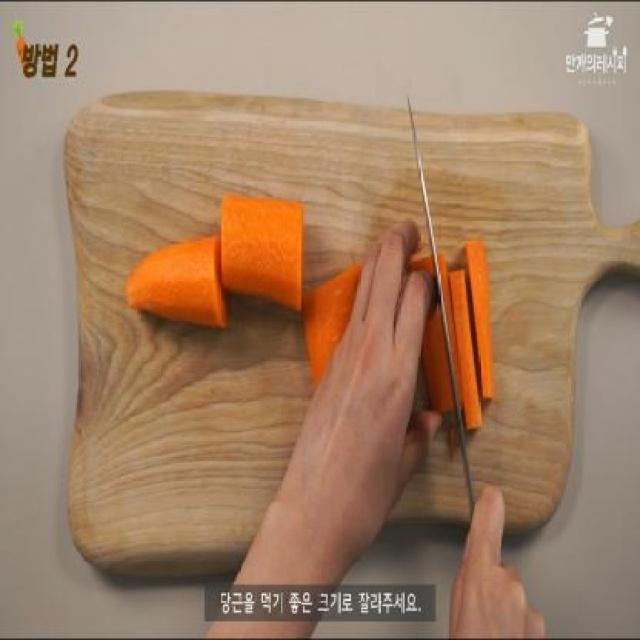carrot: (218, 183, 307, 307), (125, 235, 223, 337)
